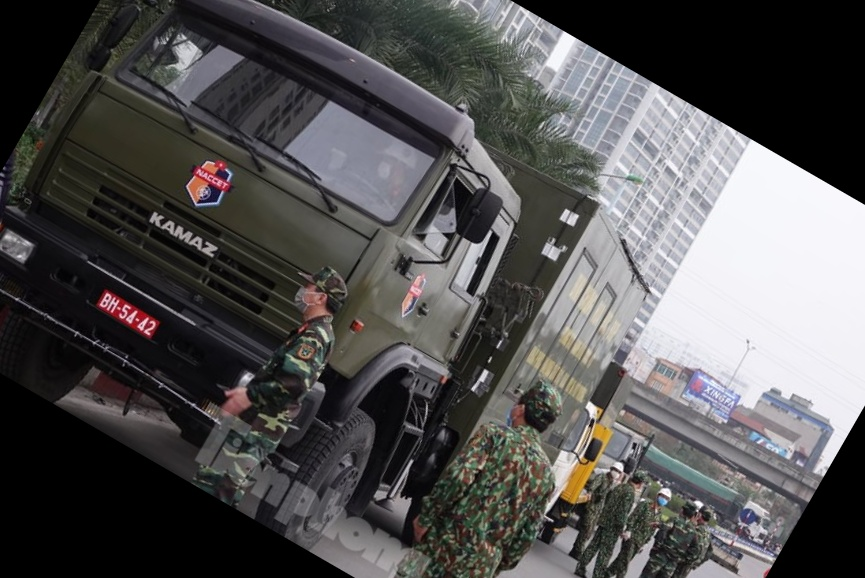plate: (93, 290, 164, 345)
